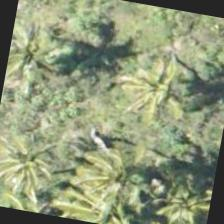Kelapa_Sawit: (102, 42, 206, 146), (60, 122, 165, 223), (0, 12, 82, 112), (0, 112, 77, 215), (39, 160, 139, 223), (135, 154, 216, 223)
